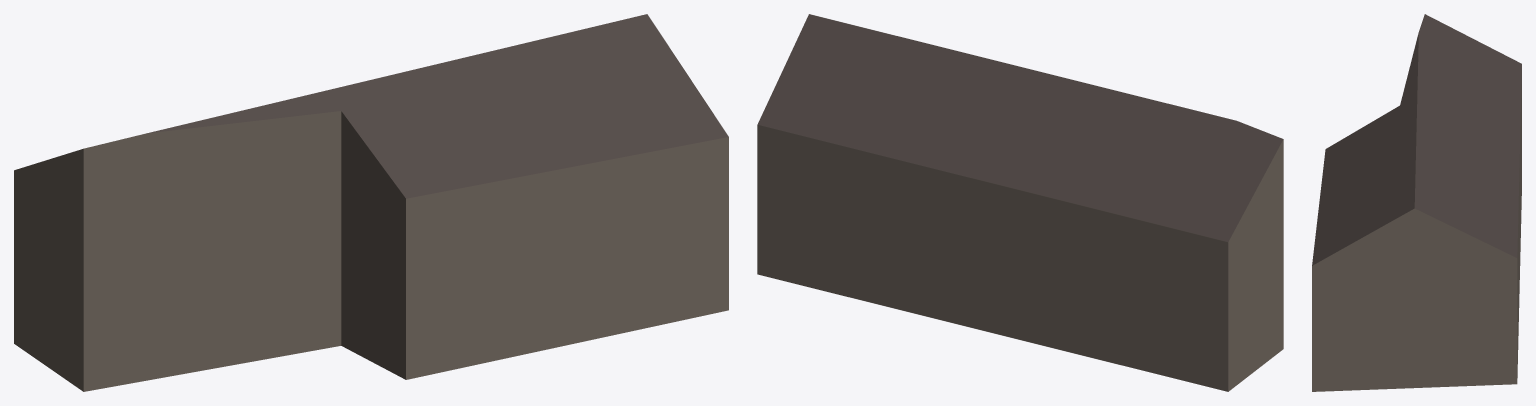
3 renders of one model, left to right at view 1: azimuth 30°, elevation 25°; view 2: azimuth 150°, elevation 25°; view 3: azimuth 270°, elevation 25°, orthographic. The views are drawn at different scales.
Visible parts, largest first — view 1: HP-w900603071; view 2: HP-w900603071; view 3: HP-w900603071.
Part boxes in pixels (x1=…): HP-w900603071: x1=14, y1=14, x2=728, y2=391; HP-w900603071: x1=757, y1=14, x2=1283, y2=391; HP-w900603071: x1=1312, y1=14, x2=1521, y2=391.
Bounding box in the file's own units: 30.98 × 12.83 × 13.59.
